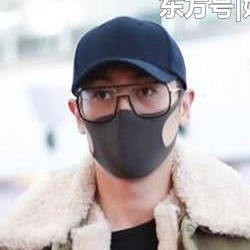mask: (77, 102, 178, 183)
